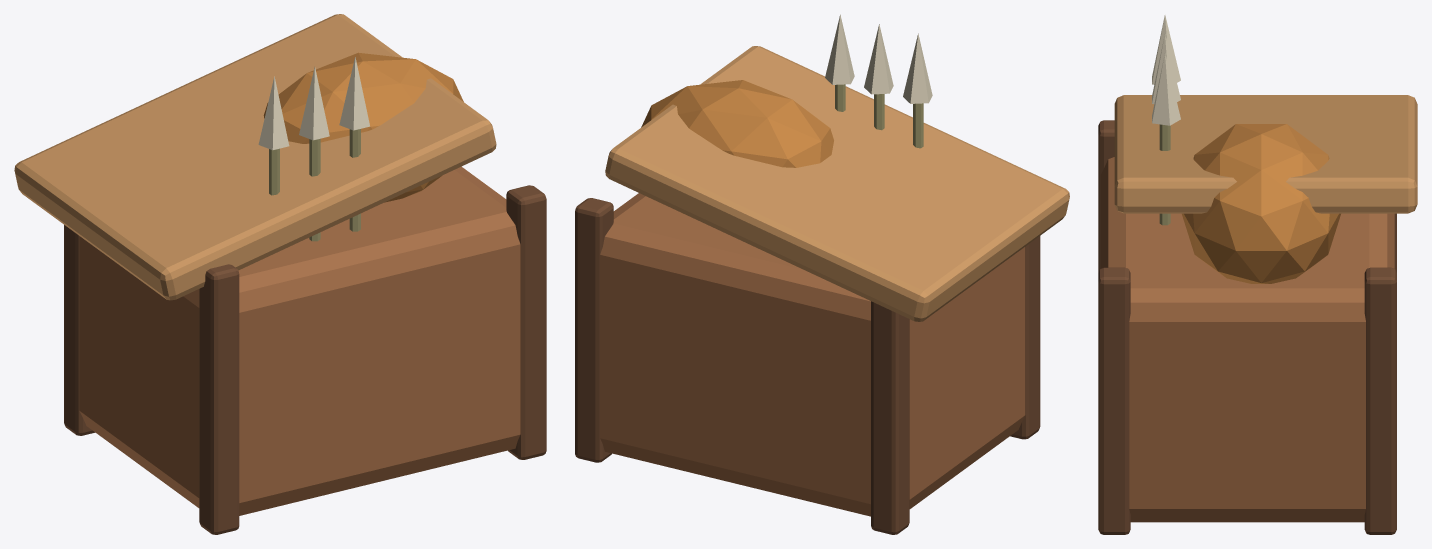
The model's file is economy_cargo_food_v01.glb.
The picture shows the model from 3 angles, left to right: view 1: azimuth 30°, elevation 25°; view 2: azimuth 150°, elevation 25°; view 3: azimuth 270°, elevation 25°; orthographic projection. The views are drawn at different scales.
Visible parts, largest first — view 1: GEO_FoodCrate, GEO_FoodCrateLid, GEO_FoodCratePost, GEO_FoodLoaf, GEO_FoodCratePost.002, GEO_FoodCratePost.001, GEO_FoodGrainHead_2, GEO_FoodGrainHead_1, GEO_FoodGrainHead_0; view 2: GEO_FoodCrate, GEO_FoodCrateLid, GEO_FoodLoaf, GEO_FoodCratePost.001, GEO_FoodCratePost.003, GEO_FoodCratePost, GEO_FoodGrainHead_0, GEO_FoodGrainHead_2, GEO_FoodGrainHead_1; view 3: GEO_FoodCrate, GEO_FoodCrateLid, GEO_FoodLoaf, GEO_FoodCratePost.002, GEO_FoodCratePost.003, GEO_FoodGrainHead_2, GEO_FoodCratePost, GEO_FoodGrainHead_1, GEO_FoodGrainHead_0, GEO_FoodGrainStalk_2.
Boxes of the visible parts, x1,y1,x2,y2 form: GEO_FoodCrate: (79,166,520,515); GEO_FoodCrateLid: (14,14,496,300); GEO_FoodCratePost: (199,264,239,534); GEO_FoodLoaf: (263,52,463,202); GEO_FoodCratePost.002: (506,185,546,459); GEO_FoodCratePost.001: (64,225,94,435); GEO_FoodGrainHead_2: (339,57,369,130); GEO_FoodGrainHead_1: (299,66,329,140); GEO_FoodGrainHead_0: (258,76,289,150); GEO_FoodCrate: (600,193,1025,516); GEO_FoodCrateLid: (605,46,1069,321); GEO_FoodLoaf: (641,80,833,213); GEO_FoodCratePost.001: (871,301,909,534); GEO_FoodCratePost.003: (575,198,613,462); GEO_FoodCratePost: (1010,236,1040,439); GEO_FoodGrainHead_0: (903,33,932,103); GEO_FoodGrainHead_2: (825,14,854,84); GEO_FoodGrainHead_1: (864,24,893,94); GEO_FoodCrate: (1100,157,1394,522); GEO_FoodCrateLid: (1114,95,1417,213); GEO_FoodLoaf: (1182,124,1340,283); GEO_FoodCratePost.002: (1098,267,1130,534); GEO_FoodCratePost.003: (1364,267,1396,534); GEO_FoodGrainHead_2: (1152,53,1180,125); GEO_FoodCratePost: (1098,120,1114,272); GEO_FoodGrainHead_1: (1152,34,1180,103); GEO_FoodGrainHead_0: (1152,15,1180,84); GEO_FoodGrainStalk_2: (1159,124,1170,225).
Bounding box in the file's own units: 0.93 × 0.98 × 0.695.
